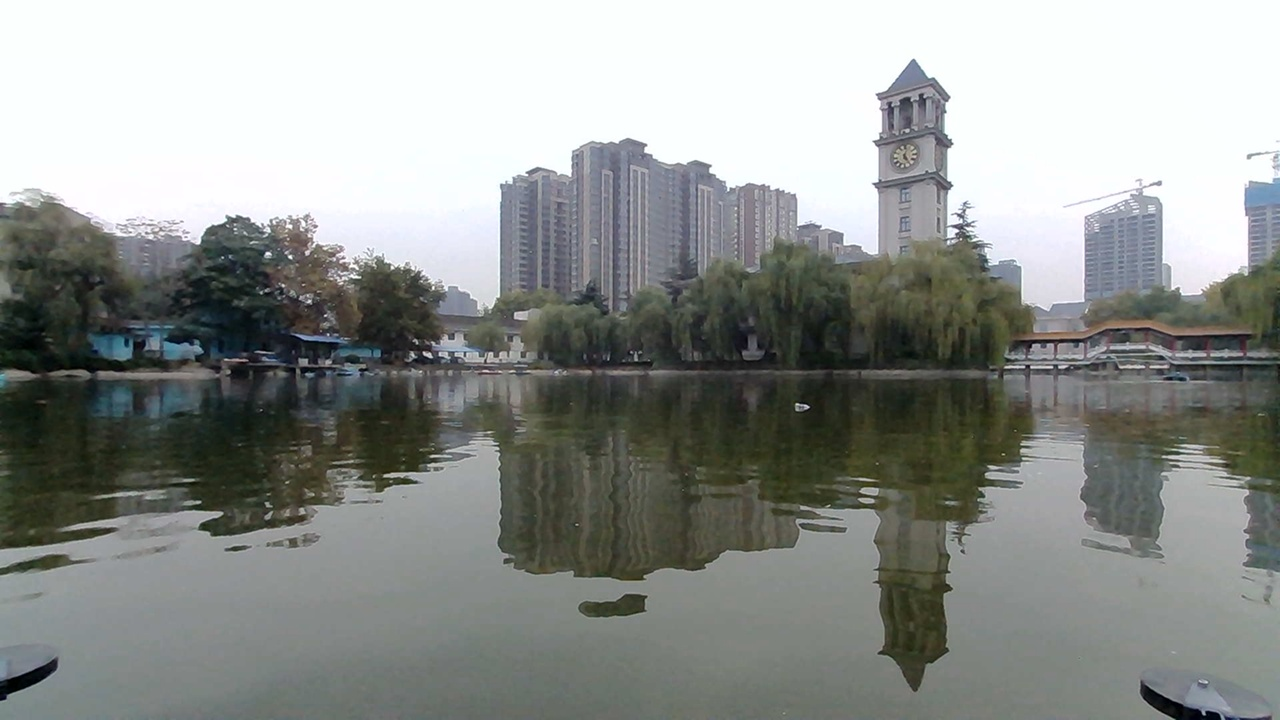bottle: (789, 387, 828, 417)
